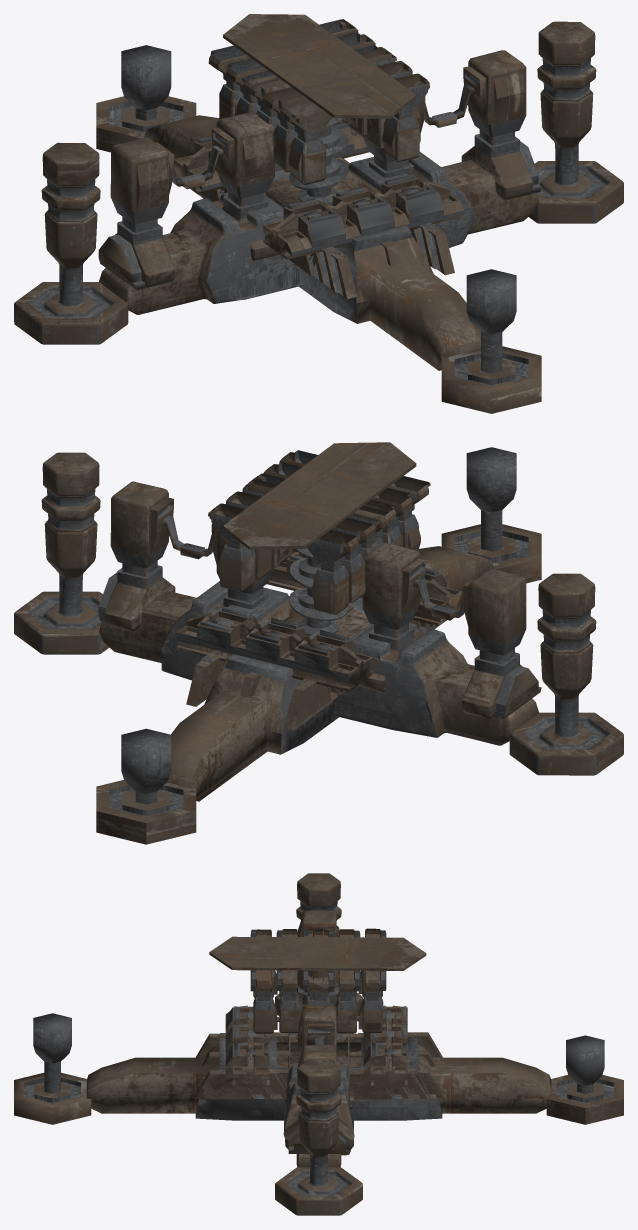
File: Mine_.gltf
3 renders of one model, top to bottom at view 1: azimuth 30°, elevation 25°; view 2: azimuth 150°, elevation 25°; view 3: azimuth 270°, elevation 25°, orthographic. The views are drawn at different scales.
Parts seen in each view (by area): view 1: Mine, Mine_Dach, Bohrer; view 2: Mine, Mine_Dach, Bohrer; view 3: Mine, Mine_Dach.
Part boxes in pixels (x1,y1,x2,y2): Mine: (14, 21, 623, 413); Mine_Dach: (208, 14, 429, 184); Bohrer: (289, 117, 348, 204); Mine: (14, 447, 623, 844); Mine_Dach: (208, 442, 430, 614); Bohrer: (289, 548, 348, 635); Mine: (14, 873, 623, 1215); Mine_Dach: (209, 928, 426, 1033).
Size of the model in its own units: 16.7 by 5.74 by 19.64.
